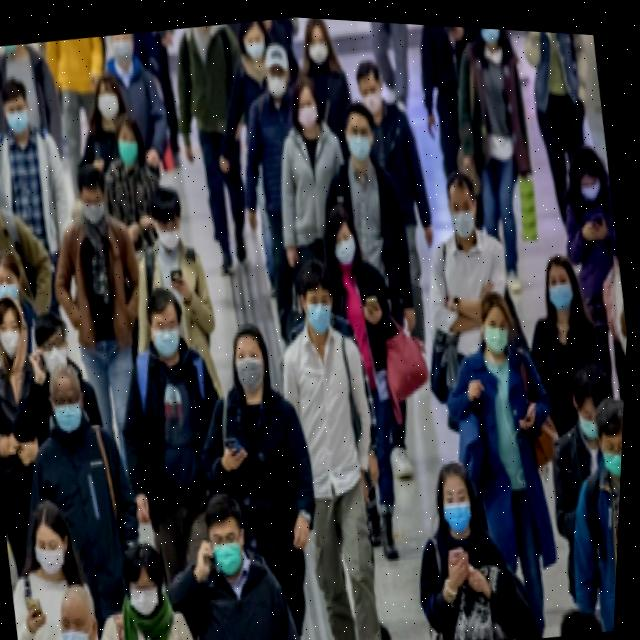Mask: (212, 536, 254, 577), (53, 397, 92, 433), (305, 291, 338, 332), (133, 583, 170, 619), (236, 352, 271, 390), (38, 543, 74, 579), (154, 324, 187, 358), (45, 345, 75, 375), (486, 317, 513, 349), (0, 328, 29, 357), (80, 197, 110, 225), (448, 498, 479, 525), (118, 138, 147, 166), (550, 278, 580, 305), (348, 126, 375, 155), (97, 90, 123, 118), (5, 109, 34, 134), (579, 172, 608, 196), (111, 37, 138, 62), (336, 233, 360, 261), (583, 407, 606, 436), (296, 100, 322, 125), (363, 85, 389, 110), (454, 204, 478, 231), (267, 68, 292, 93), (162, 227, 187, 251), (0, 278, 23, 303), (244, 36, 269, 58), (309, 37, 332, 59), (478, 22, 501, 42), (66, 627, 100, 640), (609, 441, 626, 467), (0, 42, 31, 56)
